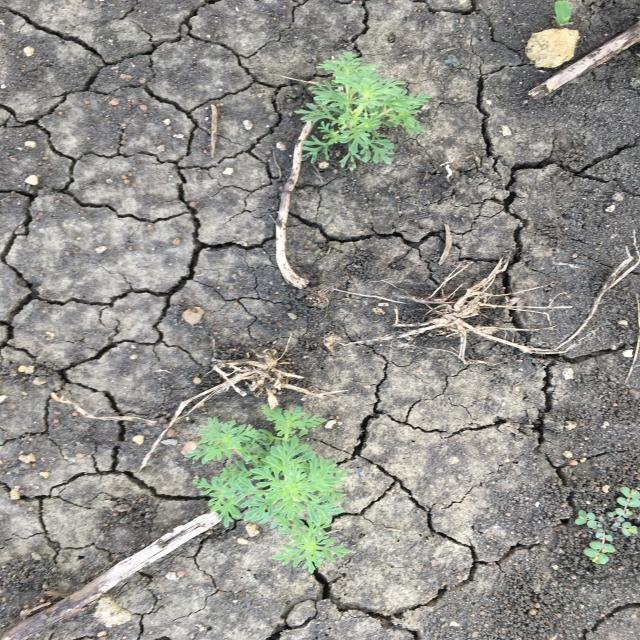Ragweed: (181, 402, 354, 575), (293, 49, 434, 172)
SpottedSpurge: (572, 486, 639, 566)
